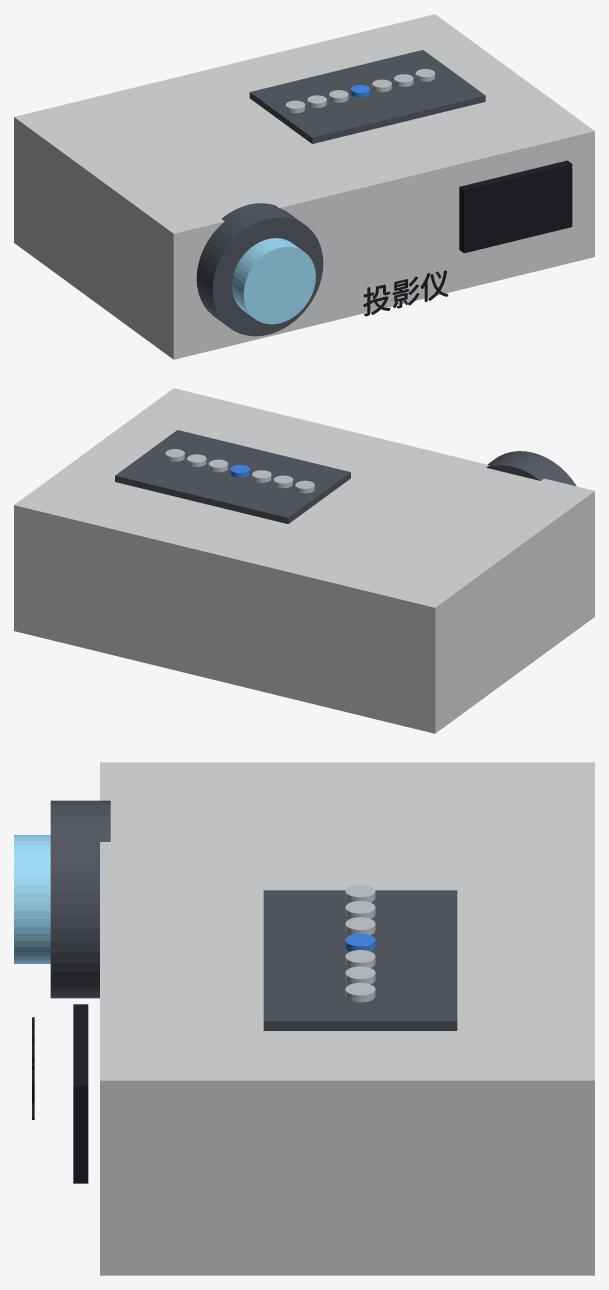
File: asset_projector.glb
The picture shows the model from 3 angles, top to bottom: view 1: azimuth 30°, elevation 25°; view 2: azimuth 150°, elevation 25°; view 3: azimuth 270°, elevation 25°; orthographic projection. The views are drawn at different scales.
Visible parts, largest first — view 1: projector_body, top_panel, vent, lens_outer, lens_glass, asset_label; view 2: projector_body, top_panel, lens_outer; view 3: projector_body, top_panel, lens_outer, lens_glass, vent.
Boxes of the visible parts, x1,y1,x2,y2 form: projector_body: (14,14,594,359); top_panel: (249,50,485,143); vent: (459,160,572,253); lens_outer: (196,203,323,336); lens_glass: (232,238,315,324); asset_label: (363,270,448,316); projector_body: (14,388,594,733); top_panel: (115,430,350,523); lens_outer: (486,451,576,486); projector_body: (100,762,594,1275); top_panel: (263,890,457,1030); lens_outer: (50,800,110,998); lens_glass: (14,835,50,963); vent: (73,1004,88,1183).
Size of the model in its own units: 1.75 by 0.569 by 1.35.
